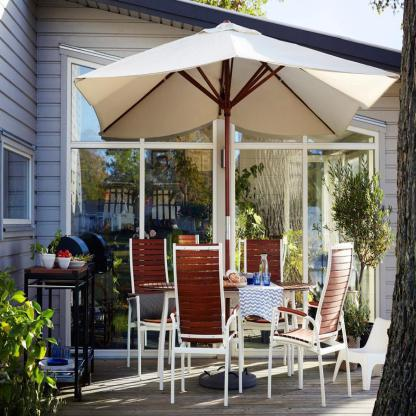Chair: (265, 240, 355, 409), (169, 241, 246, 407)
